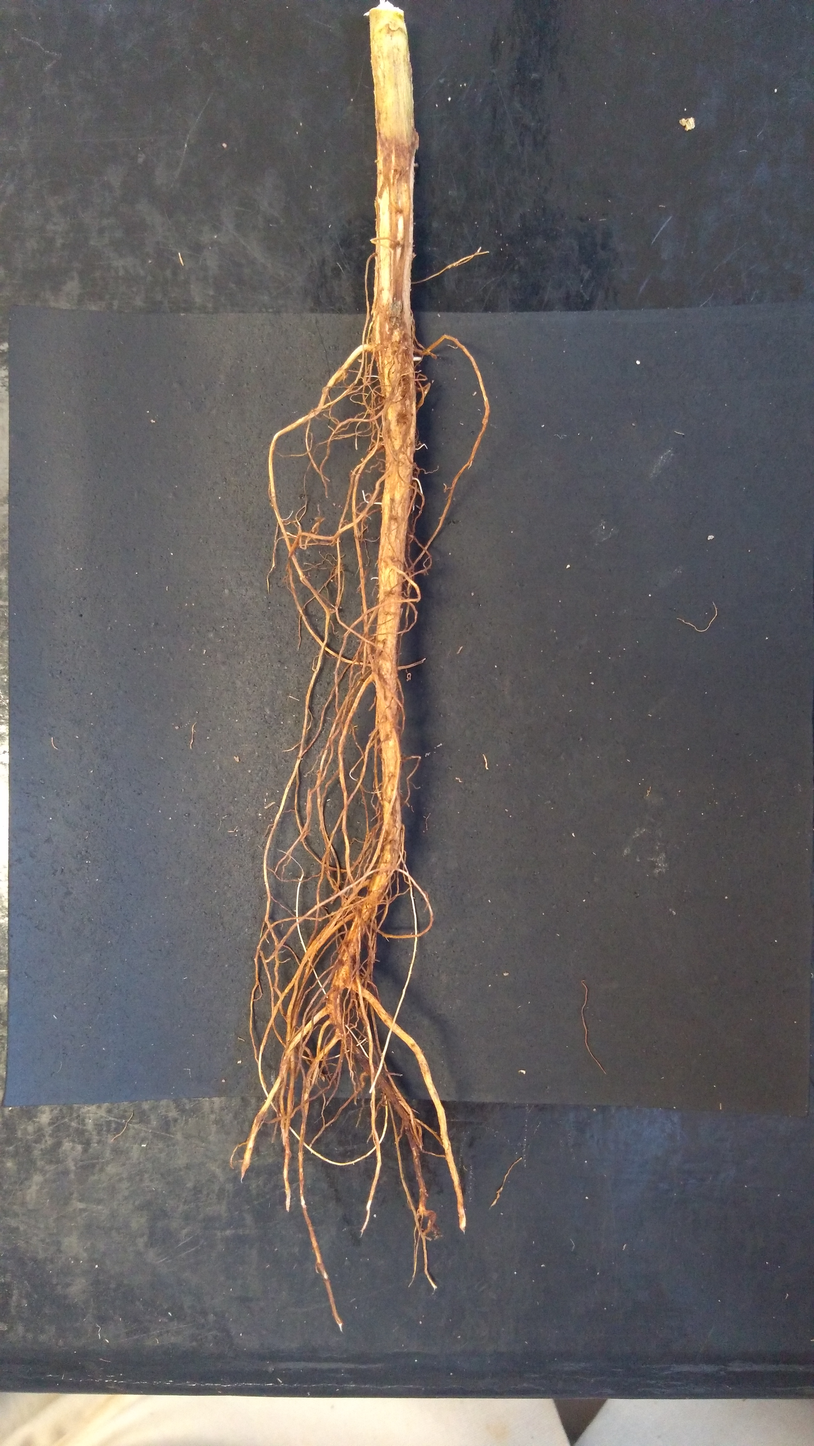nodule: (389, 300, 403, 329), (679, 116, 696, 132), (365, 635, 377, 655), (333, 371, 349, 383), (321, 386, 331, 396), (376, 441, 384, 450), (412, 462, 417, 471)
